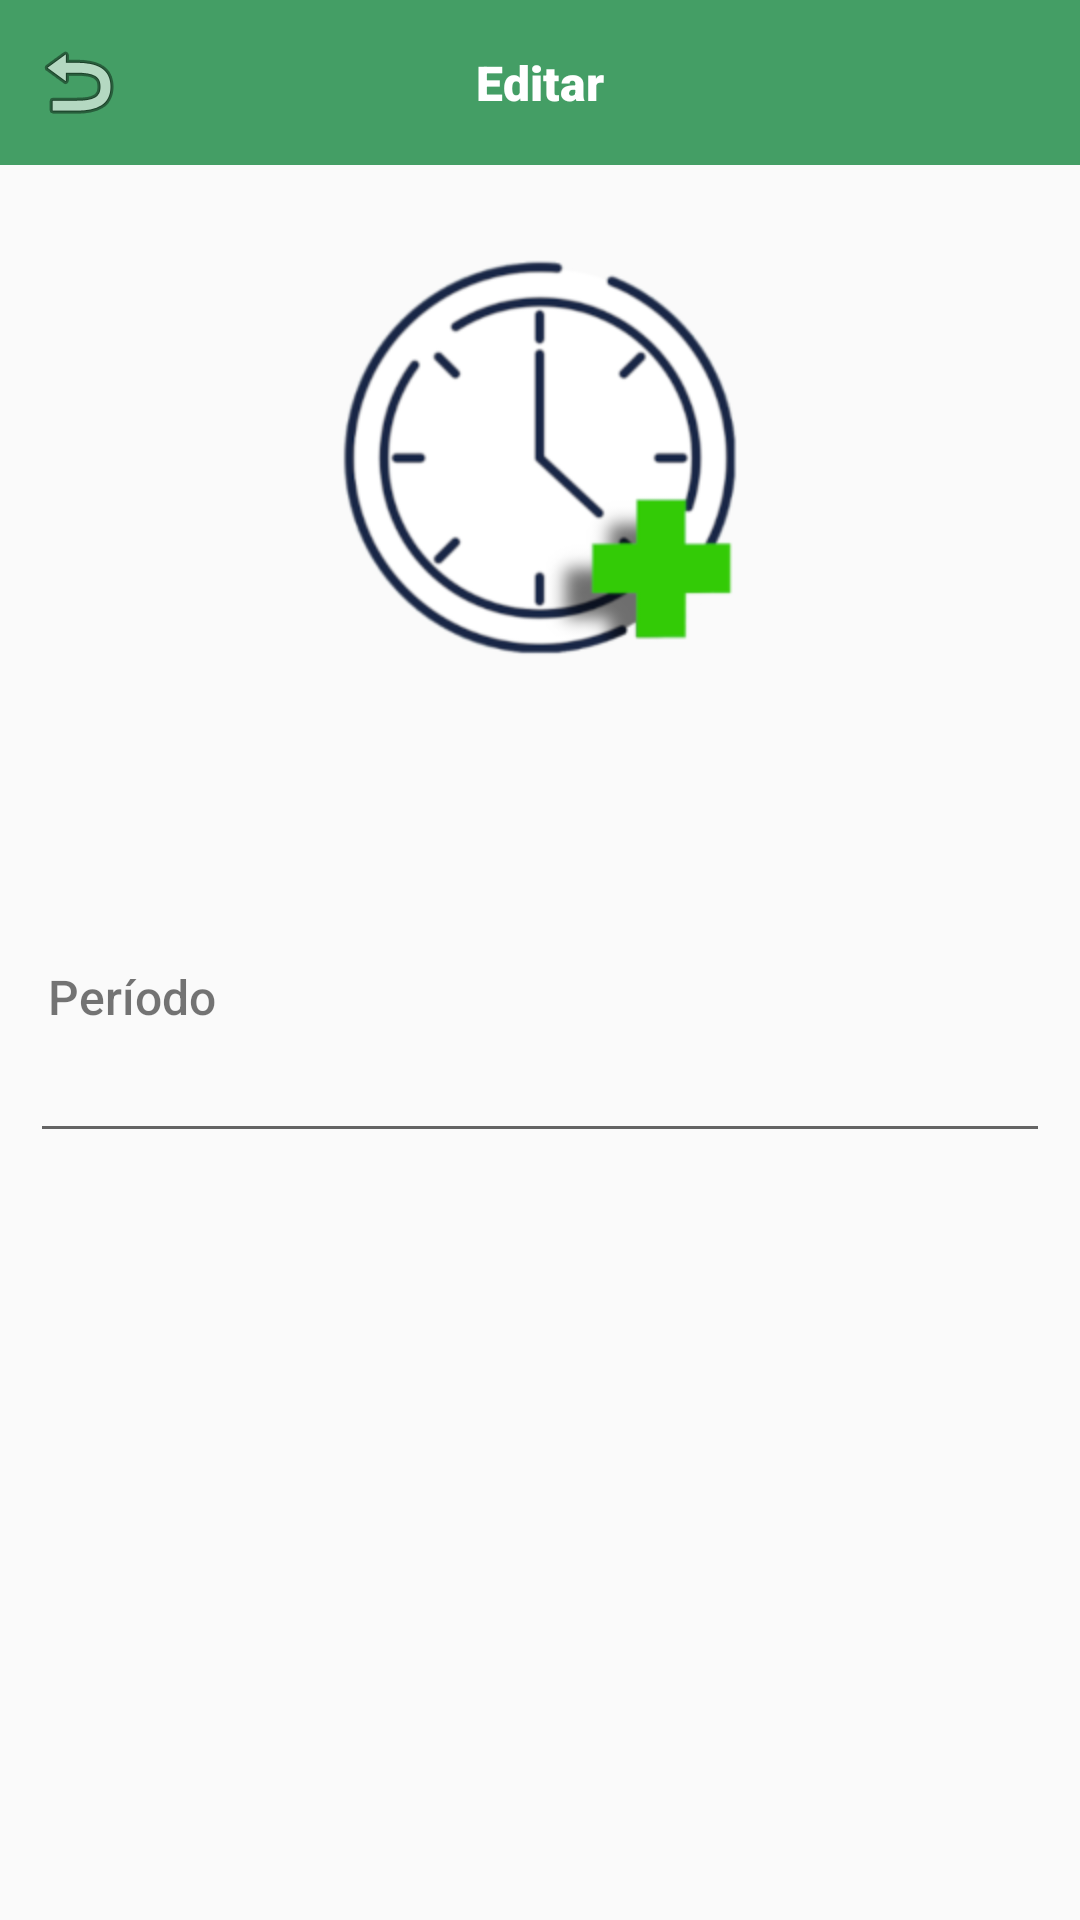

Where to tap for icons on this 1080px x 1920px app screen, as point (x, y):
revert: point (79, 83)
